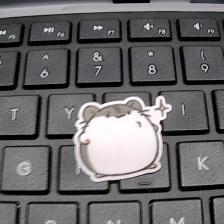mouse: (72, 89, 175, 184)
